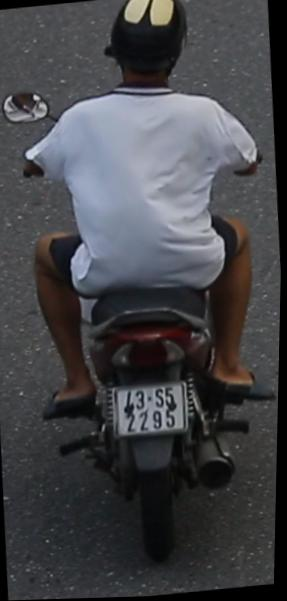LP: (110, 374, 194, 442)
helmet: (99, 0, 195, 107)
